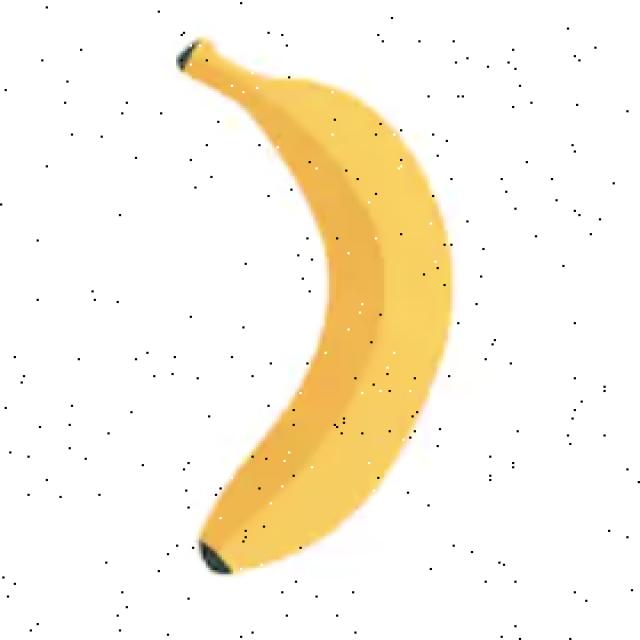banana: (30, 8, 582, 640)
